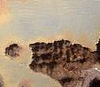Corrosion: (28, 38, 100, 87), (4, 43, 22, 59)
